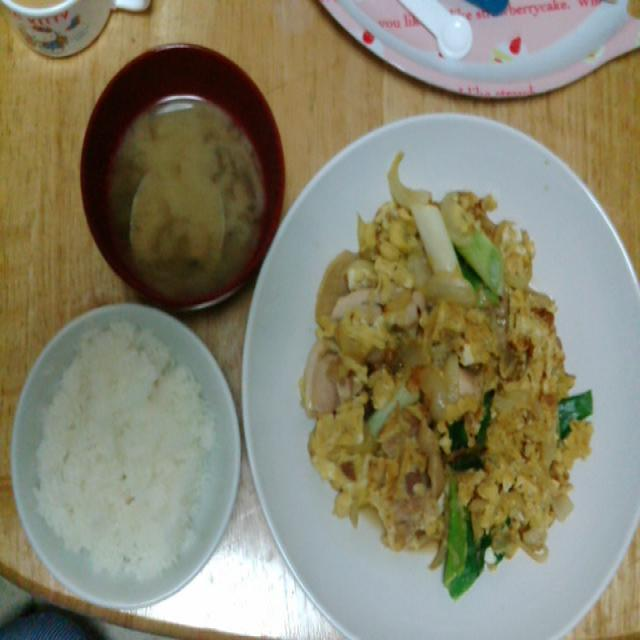Rice: (22, 258, 172, 474)
